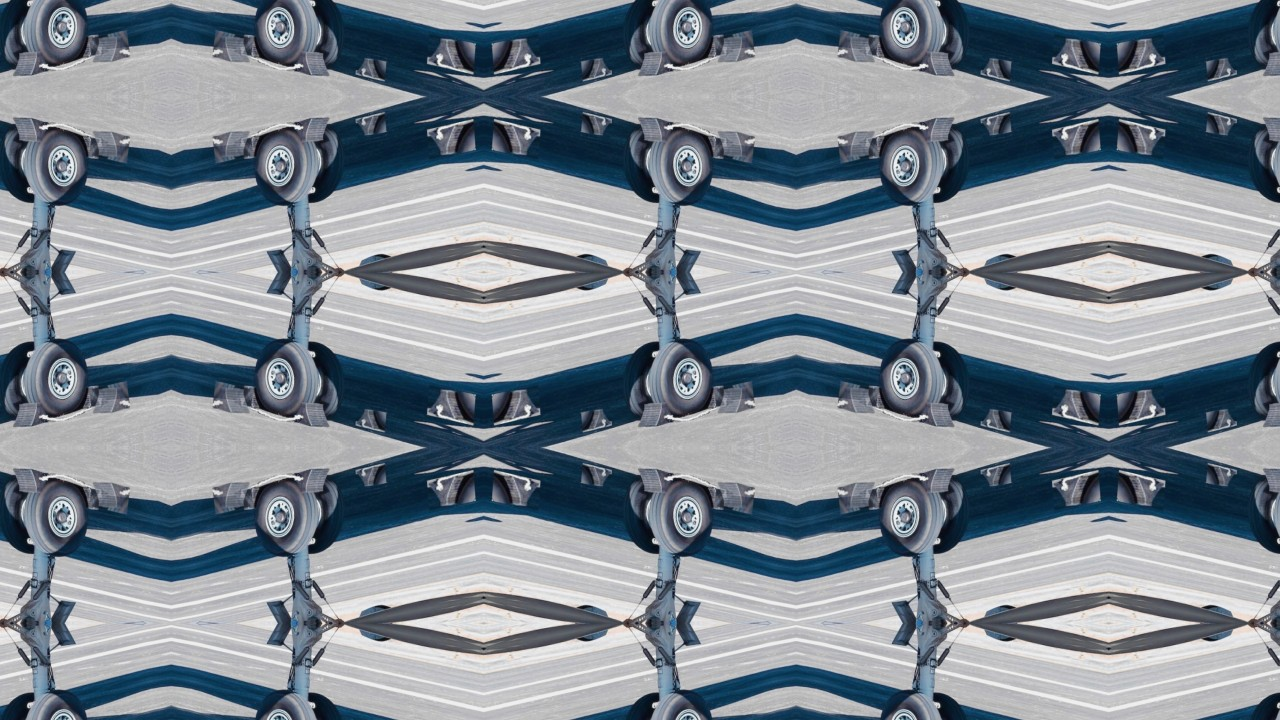chock: (423, 32, 479, 74), (488, 32, 544, 74), (1049, 32, 1105, 74), (1114, 32, 1170, 74), (423, 118, 479, 160), (488, 118, 544, 160), (1049, 118, 1105, 160), (1114, 118, 1170, 160), (423, 384, 479, 426), (488, 384, 544, 426), (1049, 384, 1105, 426), (1114, 384, 1170, 426), (423, 470, 479, 512), (488, 470, 544, 512), (1049, 470, 1105, 512), (1114, 470, 1170, 512), (86, 29, 131, 67), (210, 29, 255, 67), (712, 29, 757, 67), (836, 29, 881, 67), (86, 125, 131, 163), (210, 125, 255, 163), (712, 125, 757, 163), (836, 125, 881, 163), (86, 381, 131, 419), (210, 381, 255, 419), (712, 381, 757, 419), (836, 381, 881, 419), (86, 477, 131, 515), (210, 477, 255, 515), (712, 477, 757, 515), (836, 477, 881, 515), (7, 44, 50, 80), (291, 44, 334, 80), (633, 44, 676, 80), (917, 44, 960, 80), (7, 112, 50, 148), (291, 112, 334, 148), (633, 112, 676, 148), (917, 112, 960, 148), (7, 396, 50, 432), (291, 396, 334, 432), (633, 396, 676, 432), (917, 396, 960, 432), (7, 464, 50, 500), (291, 464, 334, 500), (633, 464, 676, 500), (917, 464, 960, 500), (71, 30, 110, 62), (231, 30, 270, 62), (697, 30, 736, 62), (857, 30, 896, 62), (71, 130, 110, 162), (231, 130, 270, 162), (697, 130, 736, 162), (857, 130, 896, 162), (71, 382, 110, 414), (231, 382, 270, 414), (697, 382, 736, 414), (857, 382, 896, 414), (71, 482, 110, 514), (231, 482, 270, 514), (697, 482, 736, 514), (857, 482, 896, 514), (353, 54, 388, 81), (579, 54, 614, 81), (979, 54, 1014, 81), (1205, 54, 1240, 81), (353, 111, 388, 138), (579, 111, 614, 138), (979, 111, 1014, 138), (1205, 111, 1240, 138), (353, 406, 388, 433), (579, 406, 614, 433), (979, 406, 1014, 433), (1205, 406, 1240, 433), (353, 463, 388, 490), (579, 463, 614, 490), (979, 463, 1014, 490), (1205, 463, 1240, 490), (1259, 44, 1280, 80), (1259, 112, 1280, 148), (1259, 396, 1280, 432), (1259, 464, 1280, 500)
wheel: (16, 121, 94, 210), (247, 121, 325, 210), (642, 121, 720, 210), (873, 121, 951, 210), (16, 334, 94, 423), (247, 334, 325, 423), (642, 334, 720, 423), (873, 334, 951, 423), (16, 473, 94, 562), (247, 473, 325, 562), (642, 473, 720, 562), (873, 473, 951, 562), (16, 0, 94, 71), (247, 0, 325, 71), (642, 0, 720, 71), (873, 0, 951, 71), (295, 121, 356, 205), (611, 121, 672, 205), (921, 121, 982, 205), (295, 339, 356, 423), (611, 339, 672, 423), (921, 339, 982, 423), (295, 473, 356, 557), (611, 473, 672, 557), (921, 473, 982, 557), (295, 0, 356, 71), (611, 0, 672, 71), (921, 0, 982, 71), (0, 121, 46, 205), (0, 339, 46, 423), (0, 473, 46, 557), (1237, 121, 1280, 205), (1237, 339, 1280, 423), (1237, 473, 1280, 557), (0, 0, 46, 71), (1237, 0, 1280, 71), (16, 686, 94, 720), (247, 686, 325, 720), (642, 686, 720, 720), (873, 686, 951, 720), (295, 691, 356, 720), (611, 691, 672, 720), (921, 691, 982, 720), (0, 691, 46, 720), (1237, 691, 1280, 720), (1268, 121, 1280, 210), (1268, 334, 1280, 423), (1268, 473, 1280, 562), (1268, 0, 1280, 71)
